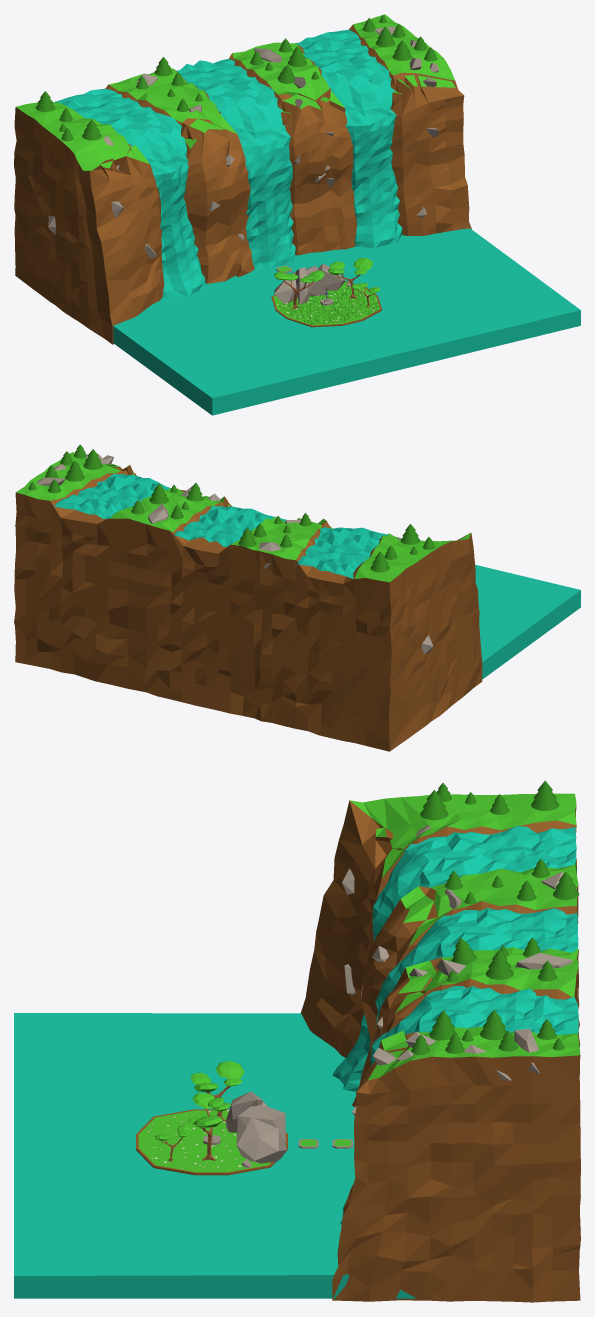
File: waterfall.glb
3 renders of one model, top to bottom at view 1: azimuth 30°, elevation 25°; view 2: azimuth 150°, elevation 25°; view 3: azimuth 270°, elevation 25°, orthographic. The views are drawn at different scales.
Parts seen in each view (by area): view 1: mountain, Plane.226, water.001, water, water.002, pinecones, island, Plane.001, pien, pien.001; view 2: mountain, Plane.226, pinecones, water.002, water.001, water; view 3: mountain, Plane.226, water.002, pinecones, water, water.001, island, boulder3, pien, pien.001, boulder2, boulder1.
Part boxes in pixels (x1=…): mountain: x1=14, y1=14, x2=471, y2=344; Plane.226: x1=113, y1=228, x2=580, y2=415; water.001: x1=295, y1=29, x2=402, y2=248; water: x1=176, y1=59, x2=295, y2=269; water.002: x1=54, y1=88, x2=205, y2=297; pinecones: x1=35, y1=15, x2=437, y2=141; island: x1=271, y1=281, x2=381, y2=327; Plane.001: x1=279, y1=287, x2=378, y2=324; pien: x1=328, y1=258, x2=372, y2=298; pien.001: x1=273, y1=270, x2=324, y2=309; mountain: x1=14, y1=452, x2=482, y2=751; Plane.226: x1=267, y1=515, x2=580, y2=679; pinecones: x1=28, y1=444, x2=435, y2=572; water.002: x1=295, y1=527, x2=387, y2=578; water.001: x1=54, y1=473, x2=170, y2=519; water: x1=174, y1=505, x2=273, y2=547; mountain: x1=301, y1=793, x2=580, y2=1302; Plane.226: x1=14, y1=1013, x2=416, y2=1298; water.002: x1=332, y1=825, x2=576, y2=1091; pinecones: x1=411, y1=780, x2=579, y2=1054; water: x1=375, y1=907, x2=578, y2=1023; water.001: x1=340, y1=986, x2=578, y2=1224; island: x1=136, y1=1109, x2=287, y2=1175; boulder3: x1=237, y1=1117, x2=287, y2=1163; pien: x1=188, y1=1093, x2=230, y2=1160; pien.001: x1=190, y1=1060, x2=244, y2=1121; boulder2: x1=236, y1=1104, x2=285, y2=1147; boulder1: x1=226, y1=1091, x2=263, y2=1132.
Size of the model in its own units: 193 by 90.82 by 172.
